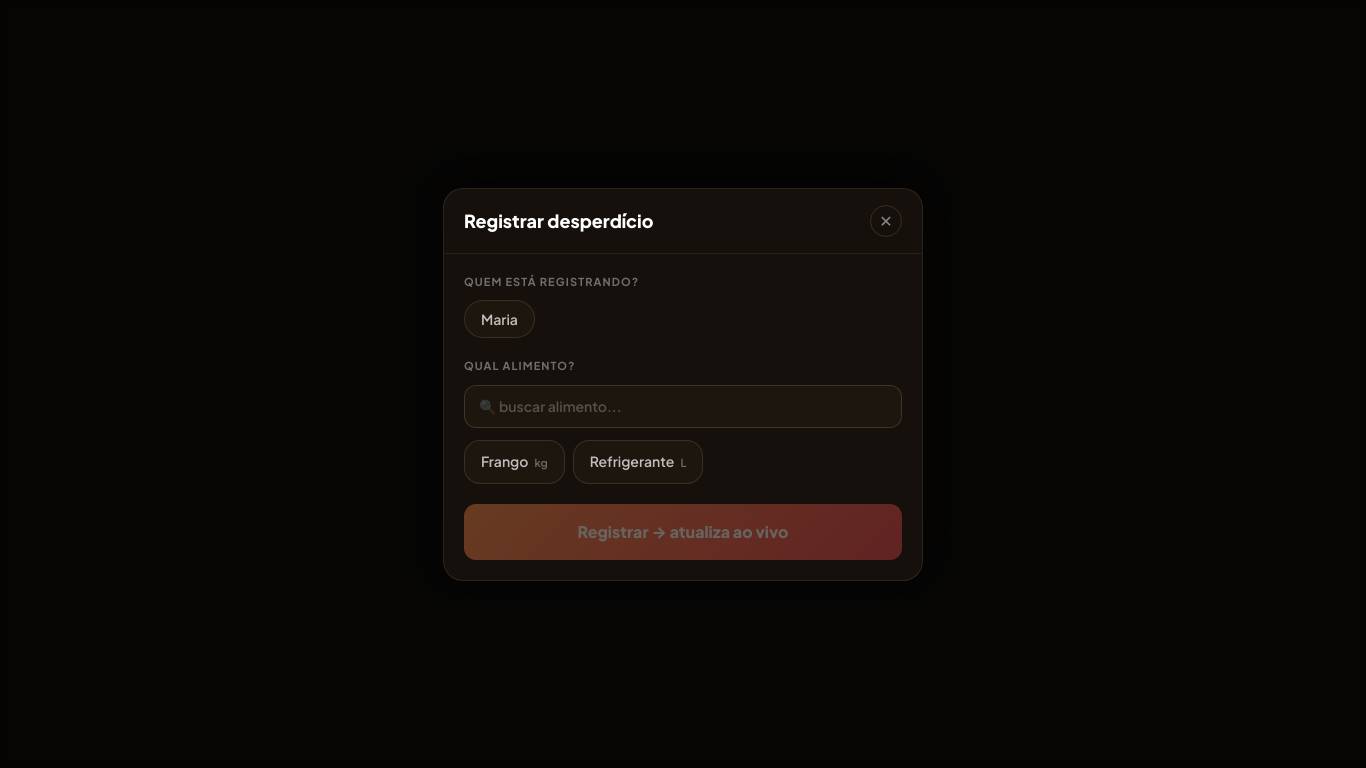
Test: RegistrarModal › mantém o botão de confirmar desabilitado até preencher os campos obrigatórios
Expected: the button "Registrar → atualiza ao vivo" is disabled, left=464, top=504, right=902, bottom=560
Click the button "Maria": point(499, 319) left=464, top=300, right=535, bottom=338
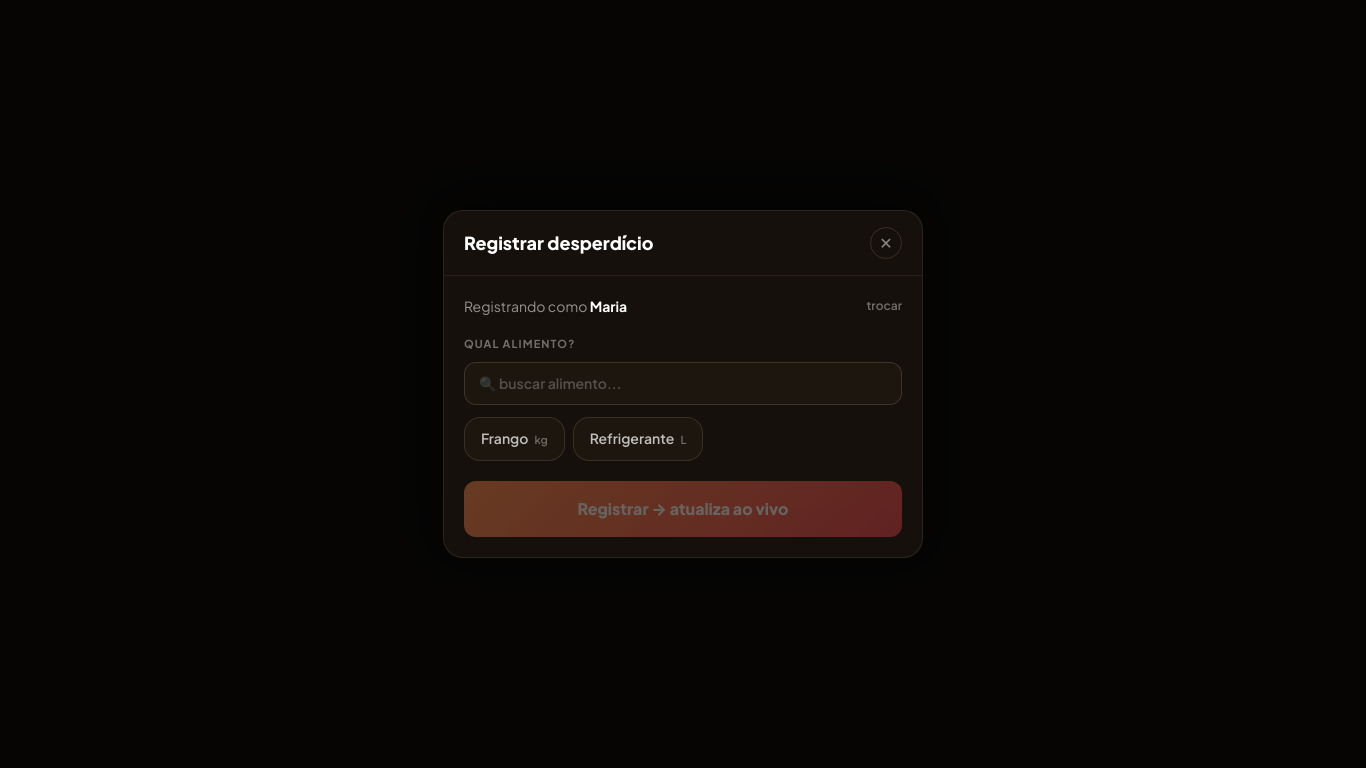
Click the button "Frango": point(514, 439) left=464, top=417, right=565, bottom=461
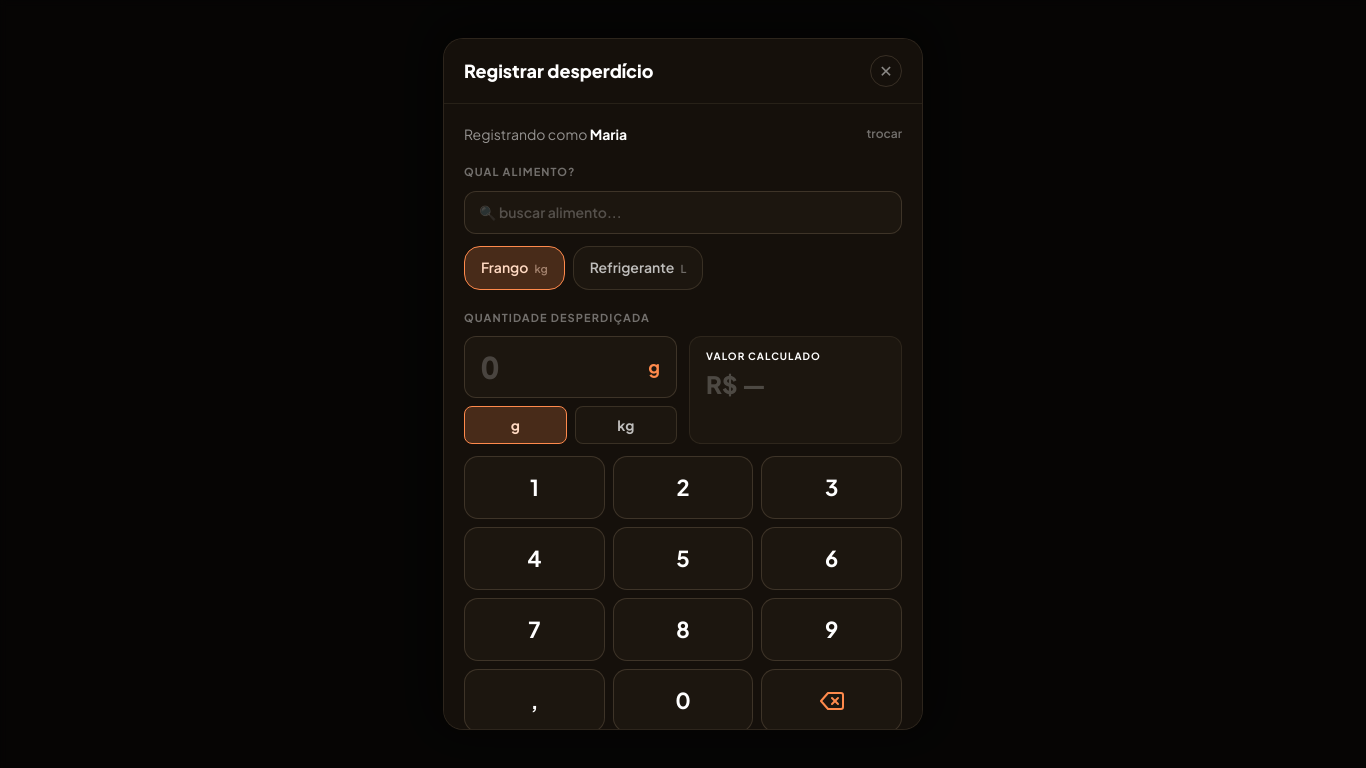
Click the button "1": point(534, 488) left=464, top=456, right=605, bottom=519
(page scrolled)
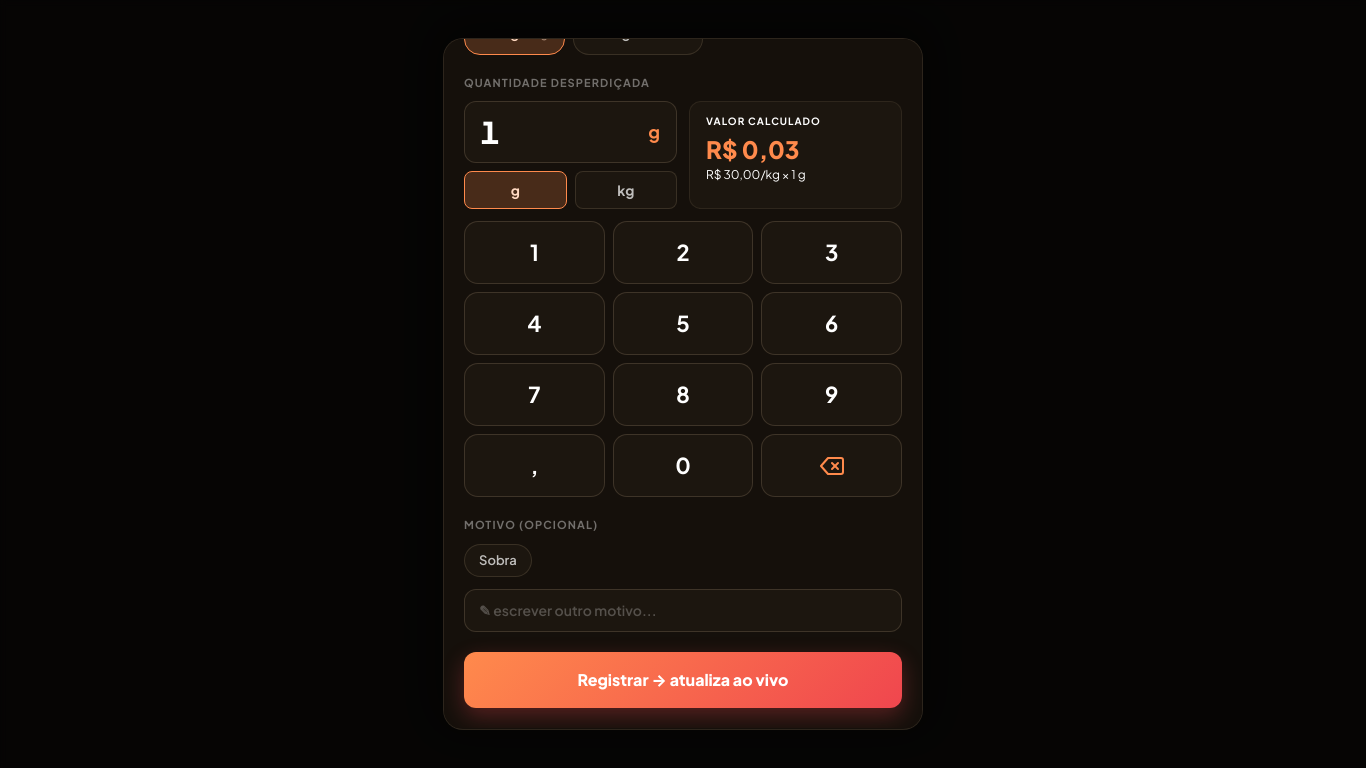
Result: the button "Registrar → atualiza ao vivo" is enabled at left=464, top=652, right=902, bottom=708
